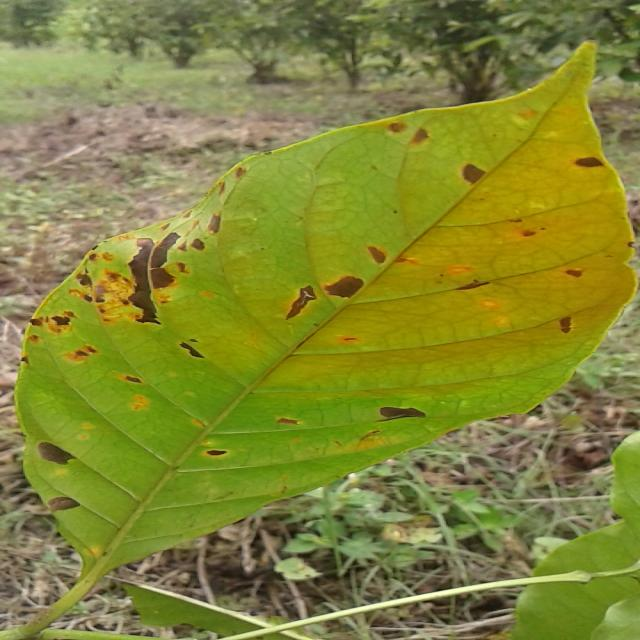Enfermedad-Roya: (13, 44, 629, 638)
